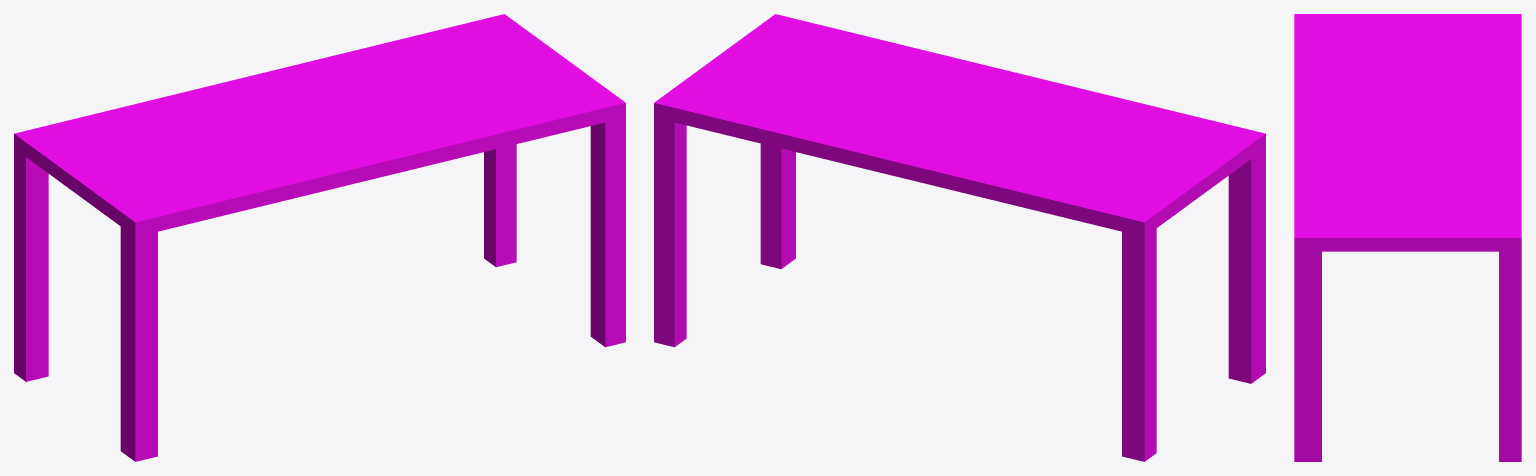
File: table.fbx
3 renders of one model, left to right at view 1: azimuth 30°, elevation 25°; view 2: azimuth 150°, elevation 25°; view 3: azimuth 270°, elevation 25°, orthographic. The views are drawn at different scales.
Parts seen in each view (by area): view 1: Cube; view 2: Cube; view 3: Cube.
Boxes of the visible parts, x1,y1,x2,y2 form: Cube: (14, 14, 625, 461); Cube: (654, 14, 1265, 461); Cube: (1294, 14, 1521, 461).
Size of the model in its own units: 14000 by 6531 by 6000.
